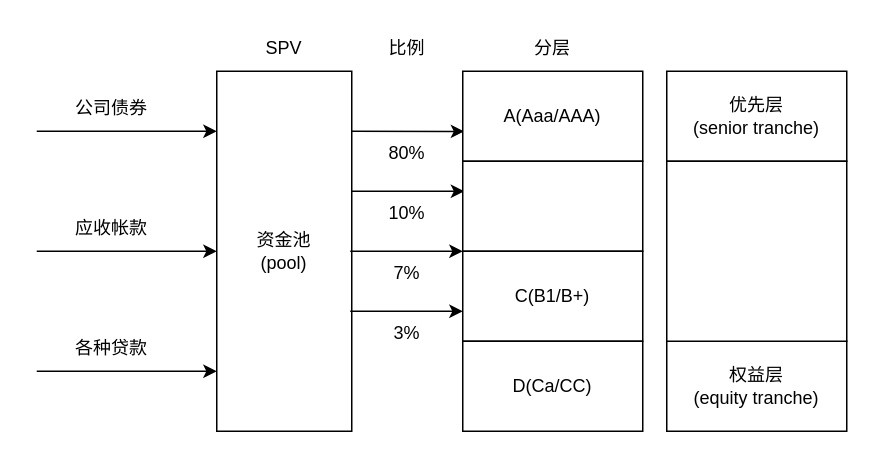
This 873x470 diagram has some shape labels left out. Each missing label, with the centre of its shape:
"B(A1/A+)" goes at point 552,205.
"夹层 (mezzanine tranche)" goes at point 756,250.
